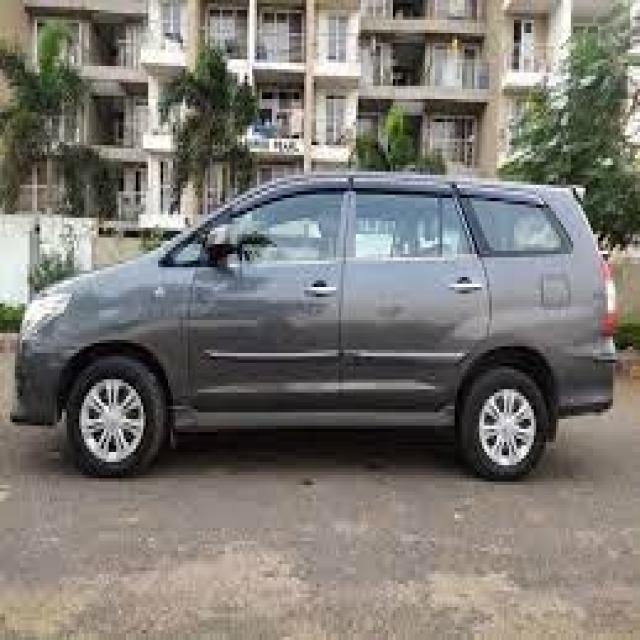light_vehicle: (10, 171, 620, 485)
